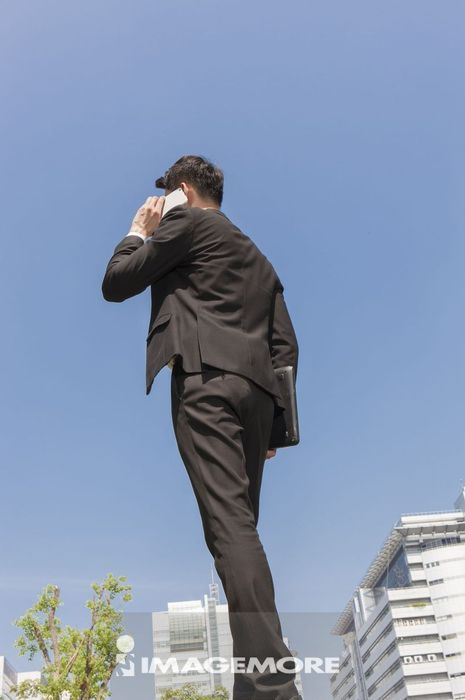phone: (159, 189, 187, 217)
